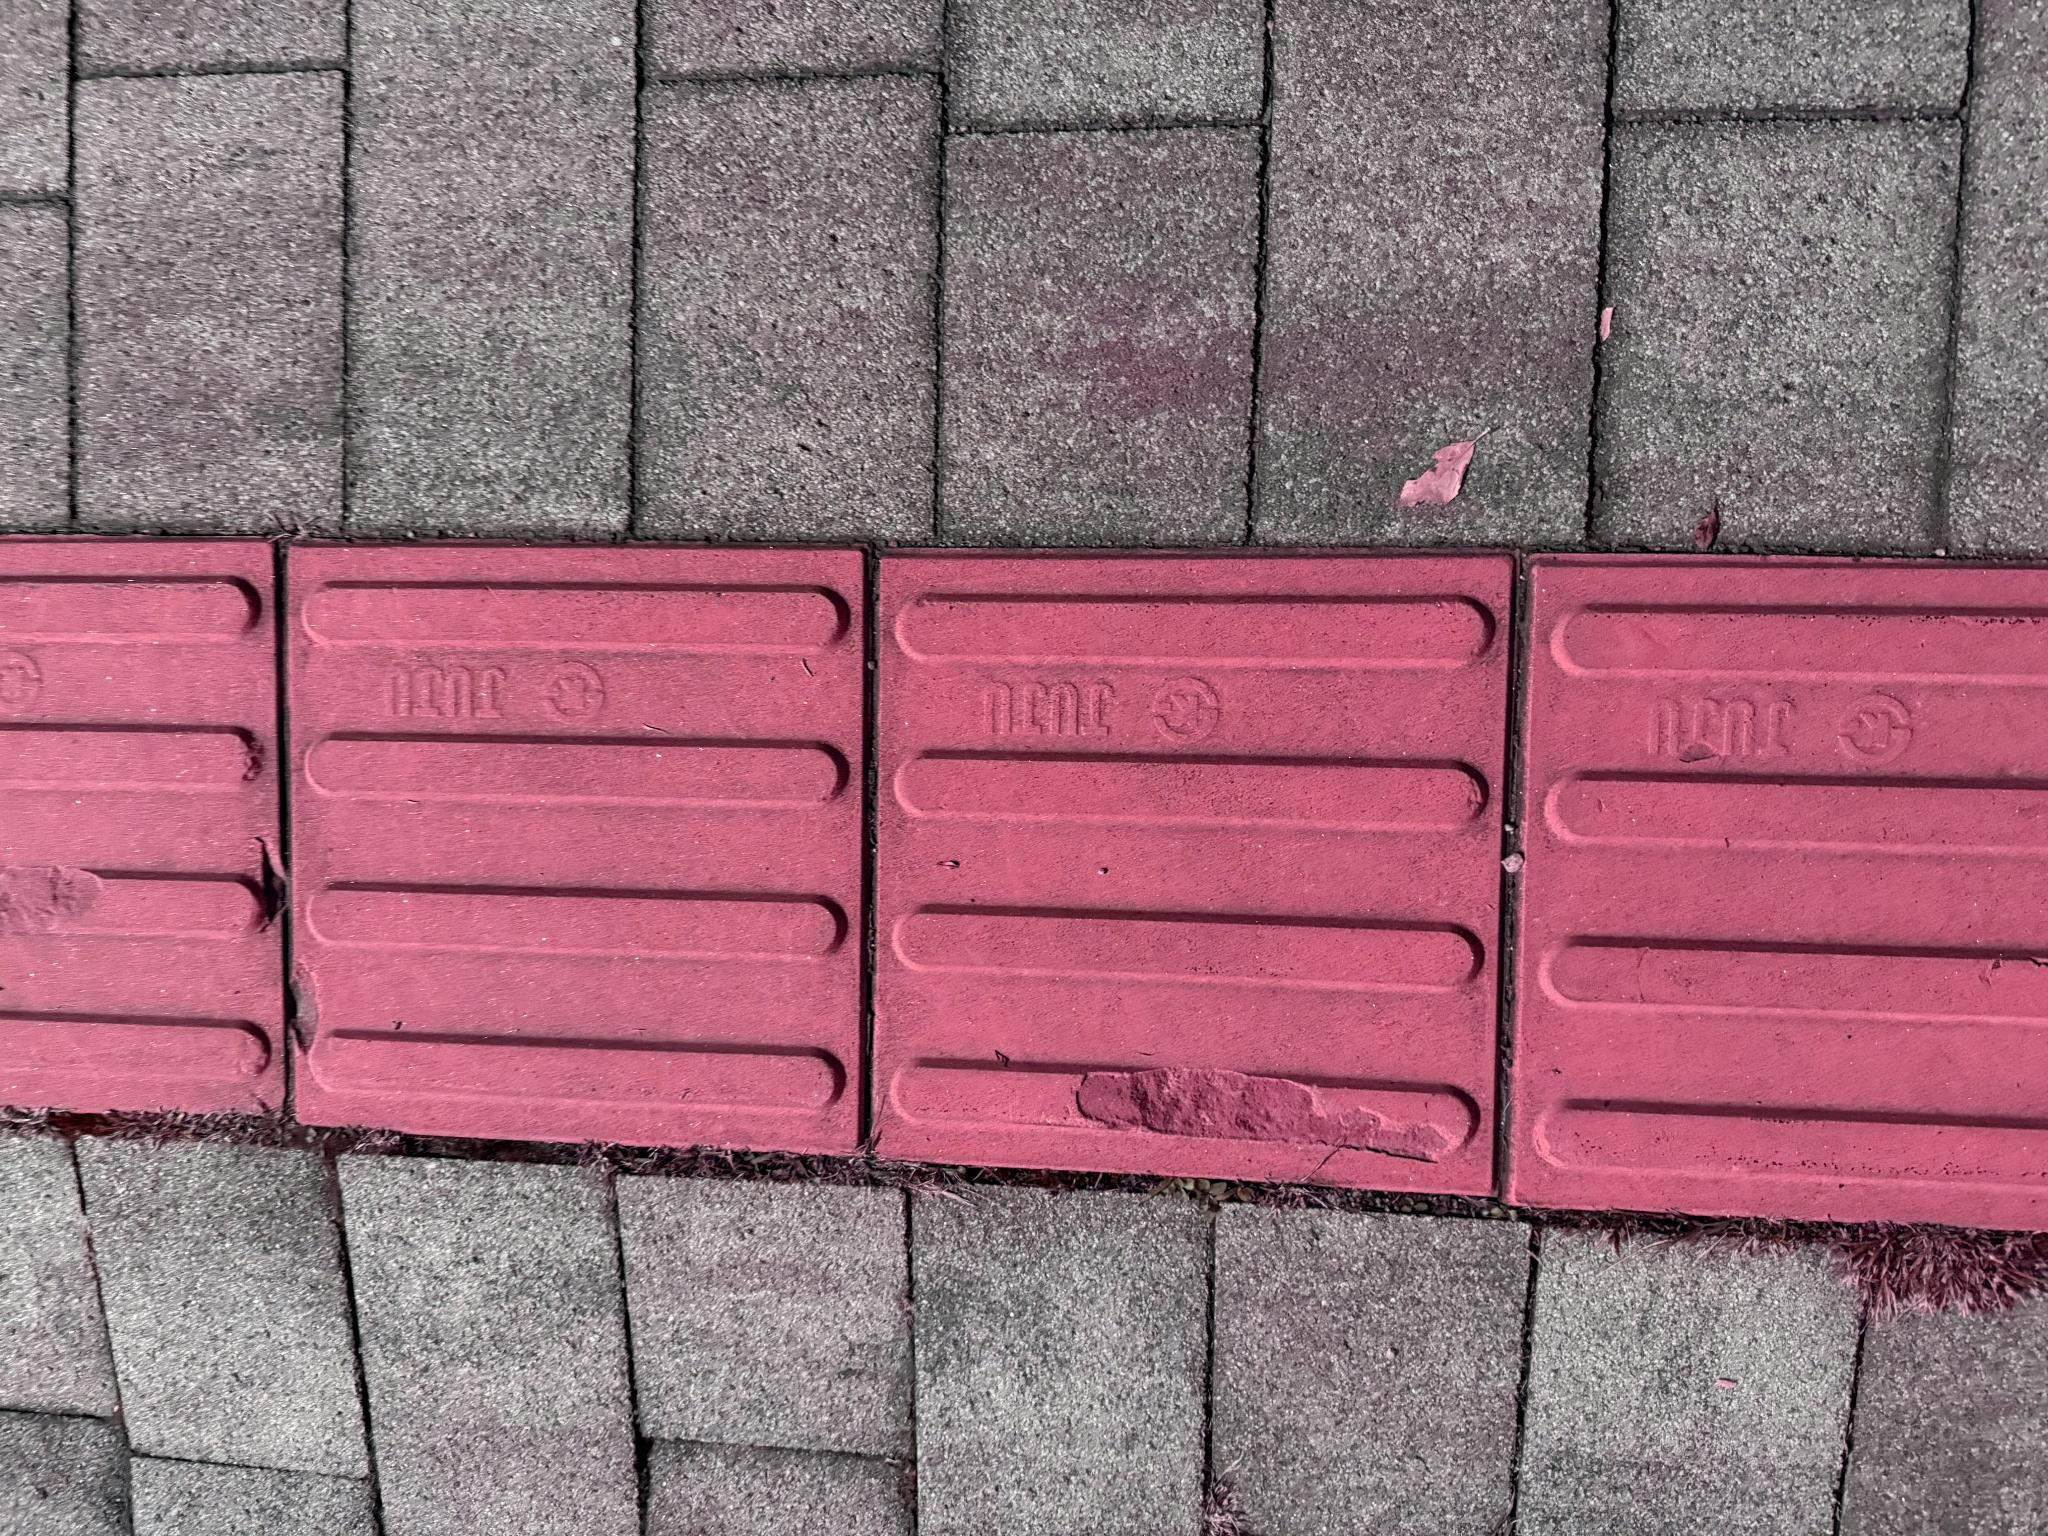Straight block broken: (347, 879, 977, 1505)
